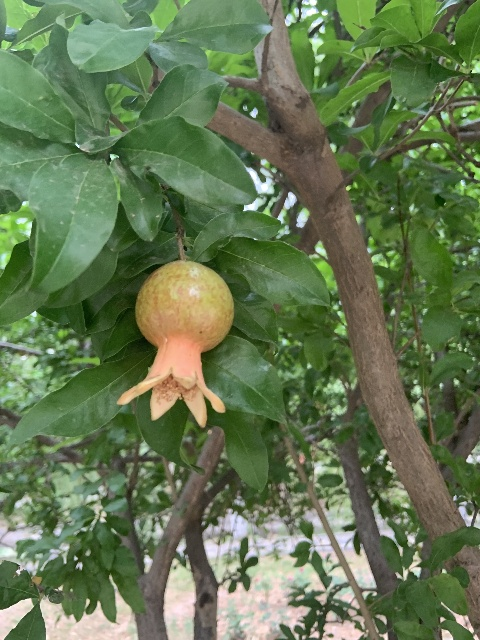early-fruit: (116, 260, 234, 429)
